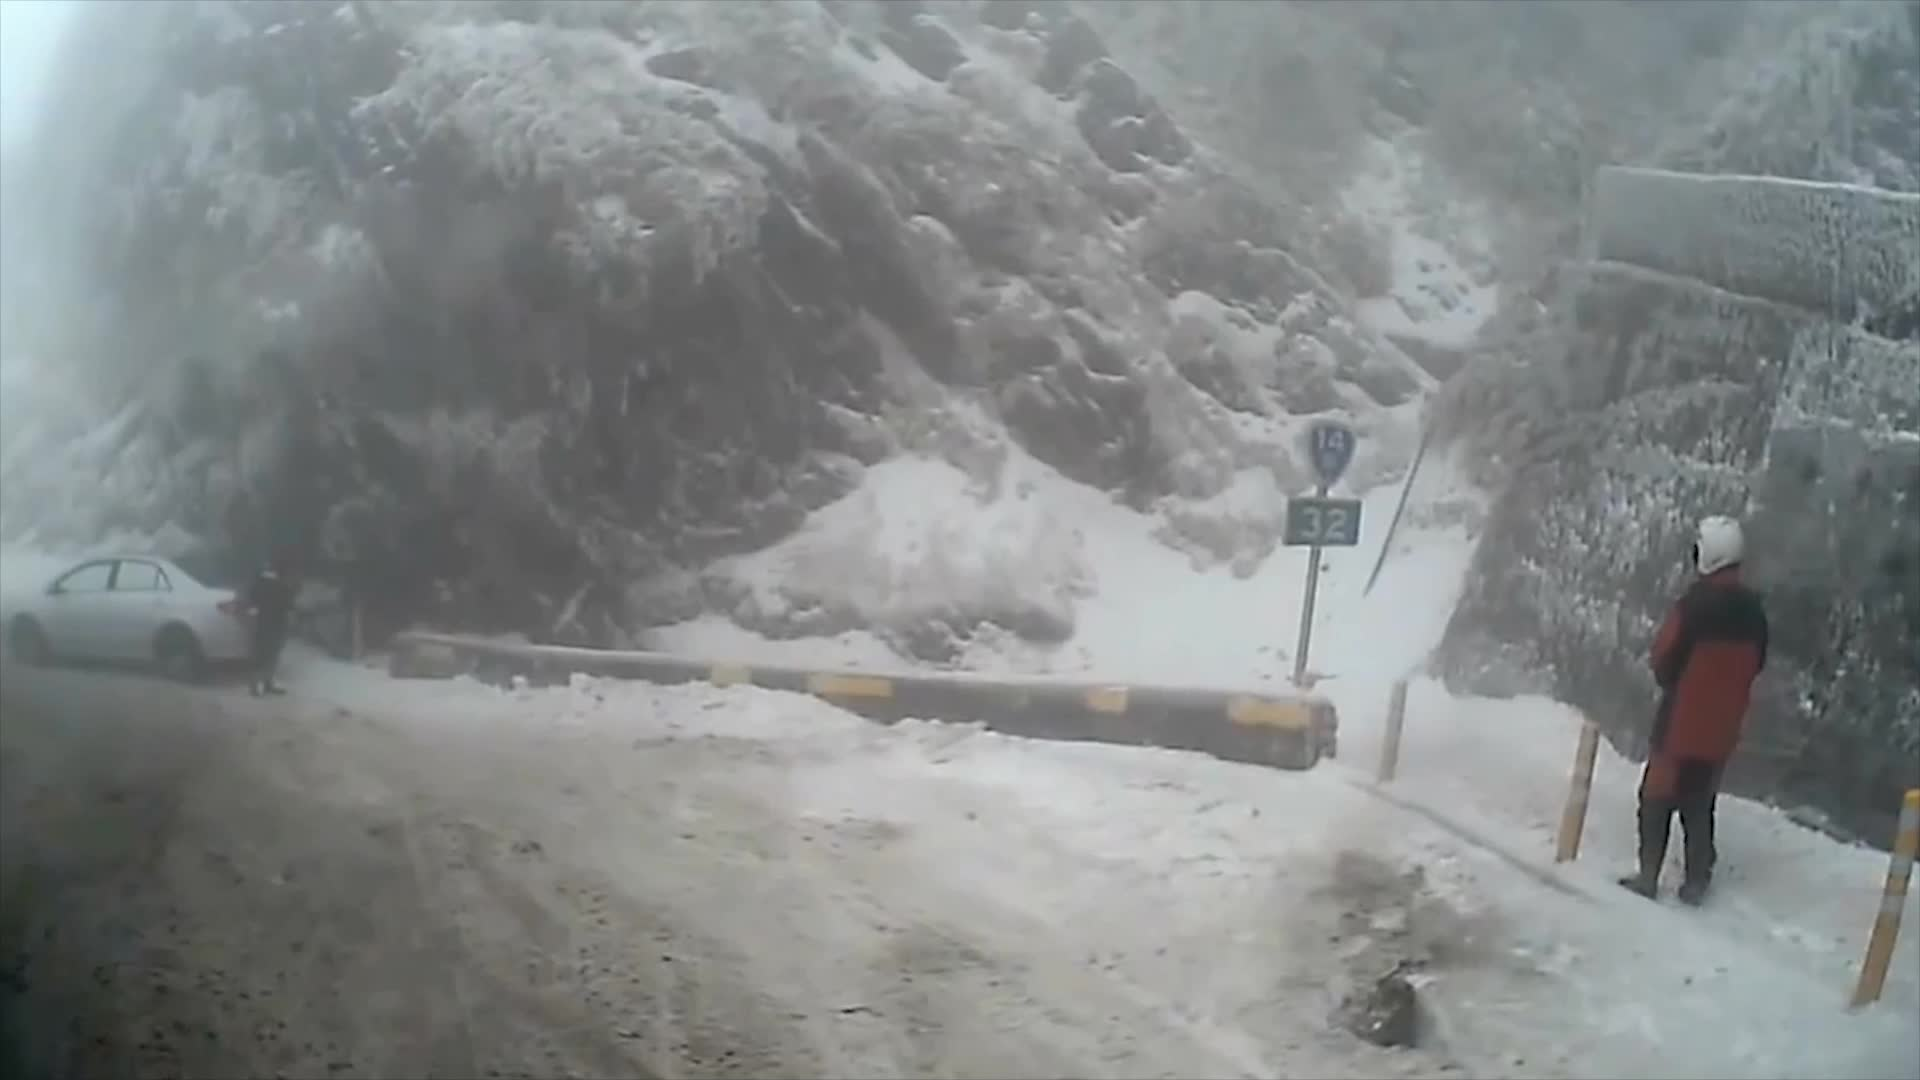pedestrian: (1618, 515, 1771, 906), (248, 563, 297, 697)
vehicle: (0, 549, 267, 681)
